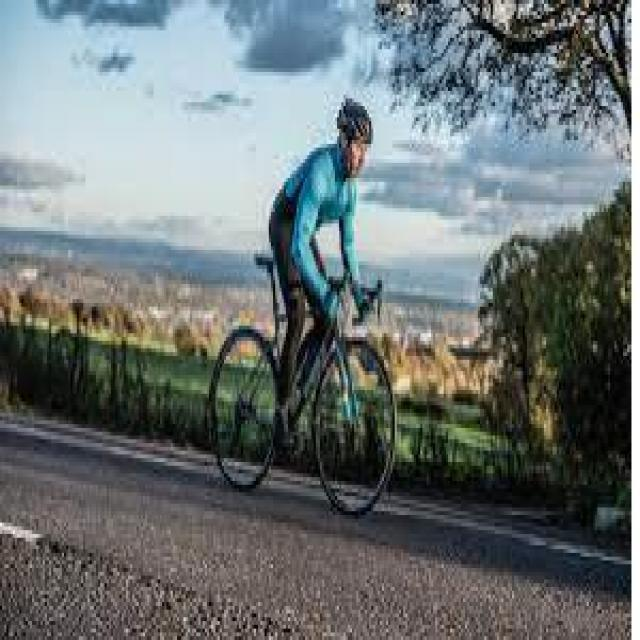bicycle: (210, 255, 398, 520)
